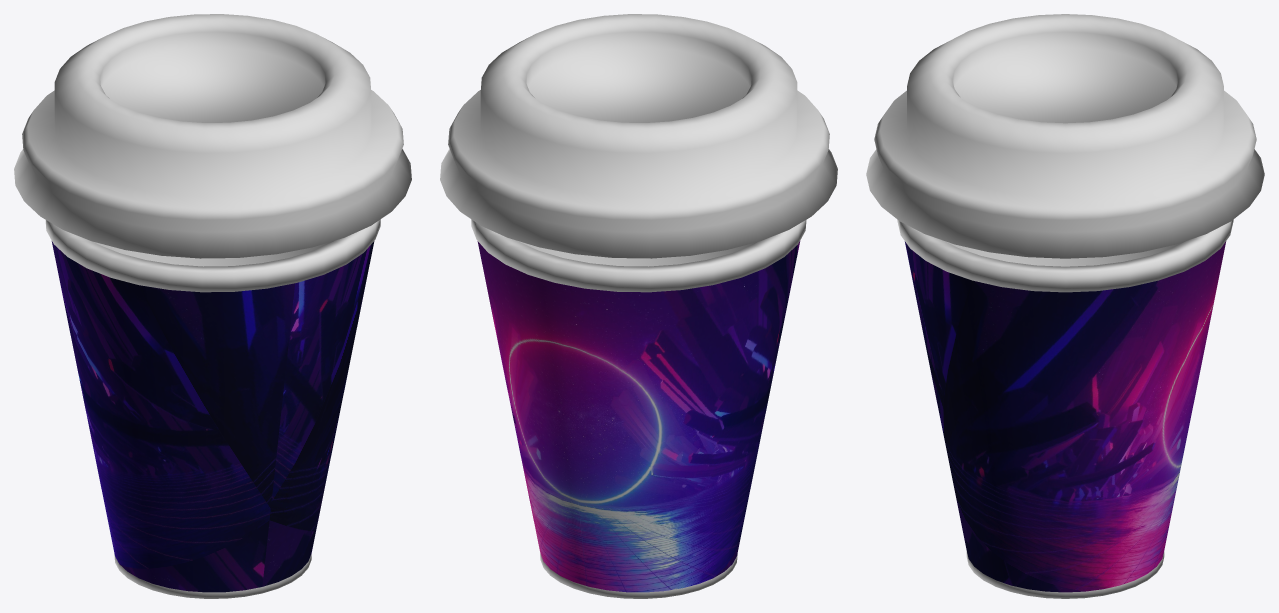
File: Bardak.fbx
3 views of the same model, side by side, from view 1: azimuth 30°, elevation 25°; view 2: azimuth 150°, elevation 25°; view 3: azimuth 270°, elevation 25° (orthographic).
Parts seen in each view (by area): view 1: Kapak, texture, Bardak; view 2: Kapak, texture, Bardak; view 3: Kapak, texture, Bardak.
Part boxes in pixels (x1=…): Kapak: x1=14, y1=14, x2=411, y2=258; texture: x1=51, y1=241, x2=374, y2=592; Bardak: x1=45, y1=219, x2=380, y2=598; Kapak: x1=440, y1=14, x2=837, y2=258; texture: x1=477, y1=241, x2=800, y2=592; Bardak: x1=471, y1=219, x2=806, y2=598; Kapak: x1=866, y1=14, x2=1264, y2=258; texture: x1=904, y1=241, x2=1226, y2=592; Bardak: x1=897, y1=219, x2=1233, y2=598.
Size of the model in its own units: 435 by 585 by 435.
